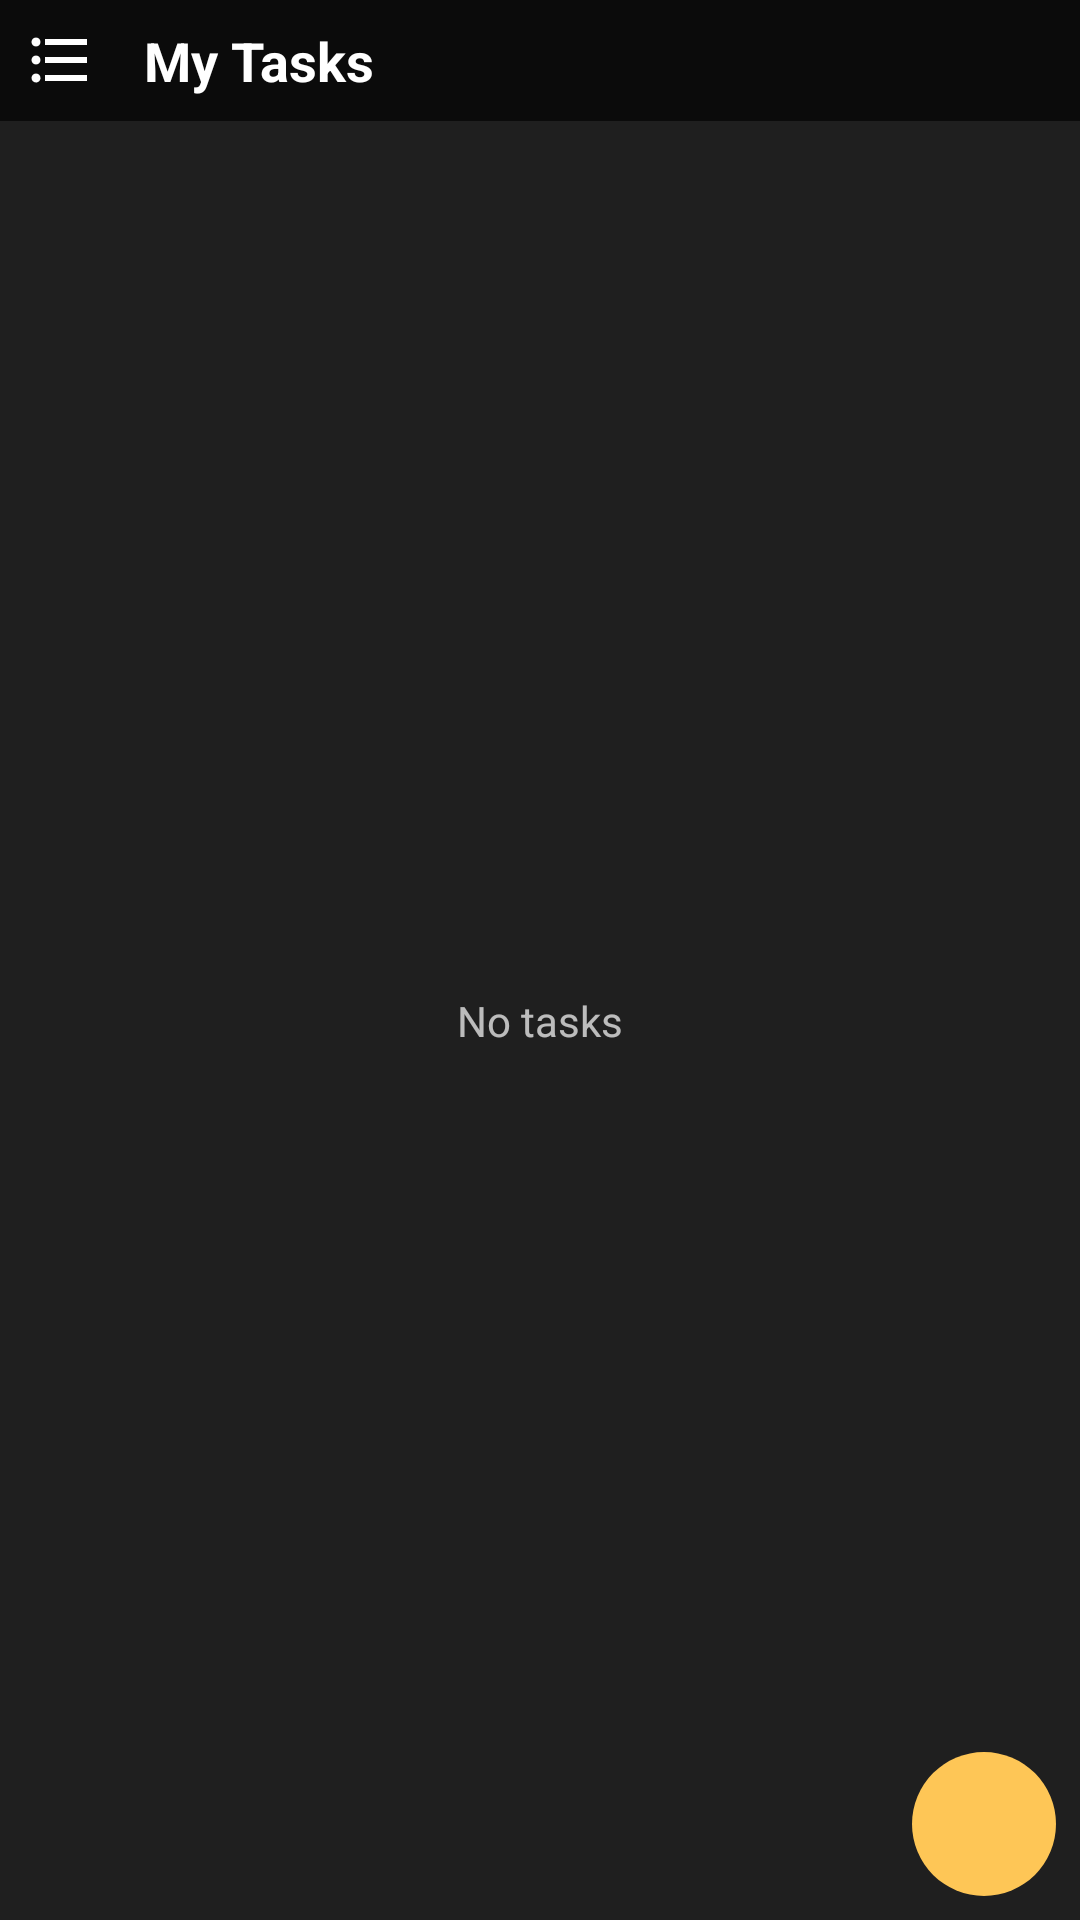

Icon click points for this 1080x1920 phone screenshot, format (x=x, y=y):
Change list: (x=59, y=60)
